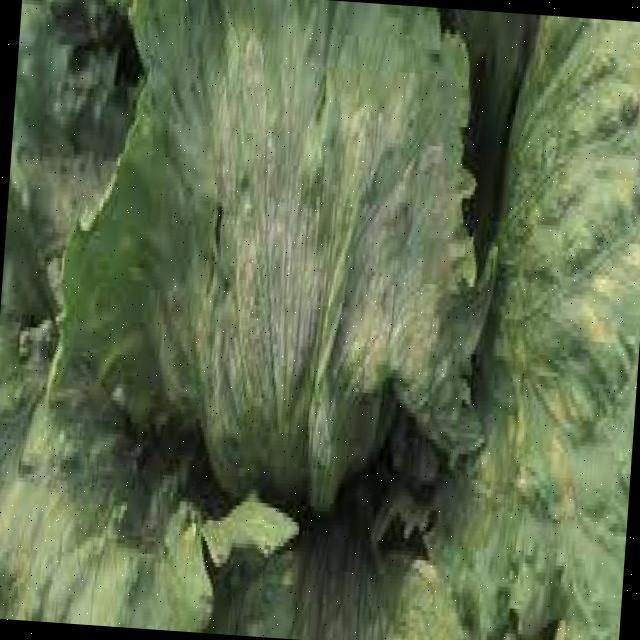Downy_Mildew: (174, 23, 445, 369)
